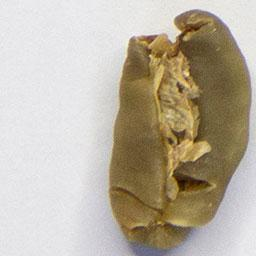defect: (105, 7, 253, 253)
